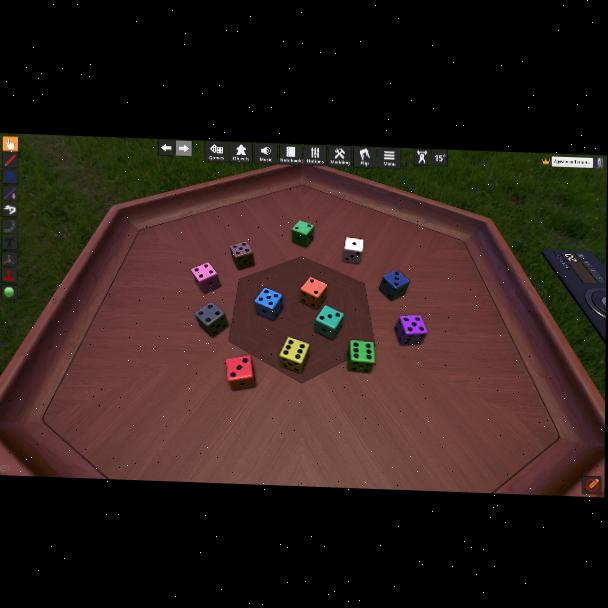d6: (278, 337, 309, 375), (195, 302, 227, 337), (226, 355, 255, 391), (253, 288, 283, 322), (315, 305, 344, 340), (397, 314, 428, 346), (192, 262, 220, 295), (379, 270, 407, 302), (348, 340, 375, 373), (300, 277, 326, 310), (230, 241, 255, 271), (291, 220, 313, 248), (342, 236, 362, 264)
